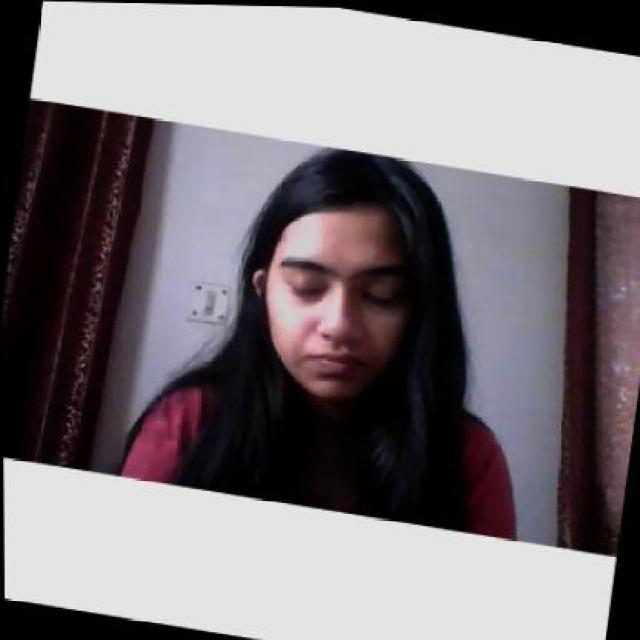inattentif: (235, 135, 427, 407)
